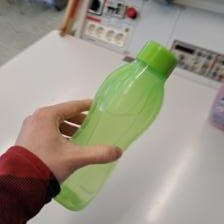bottle: (49, 39, 179, 210)
